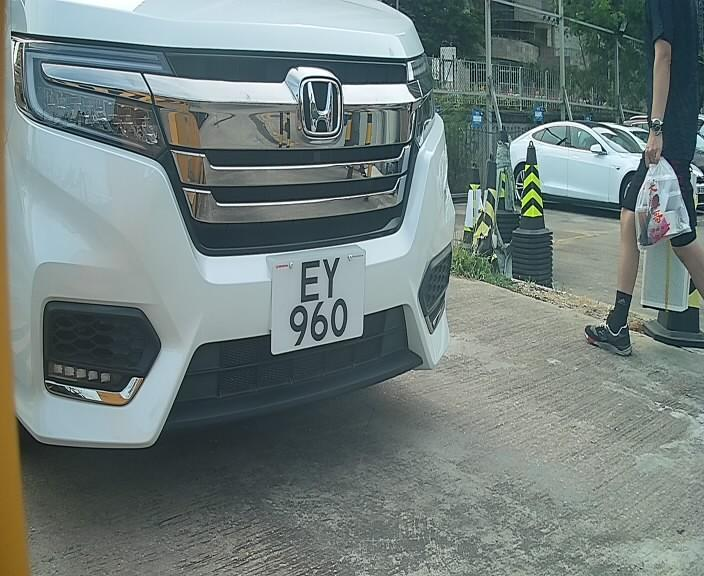License Plate: (265, 240, 375, 363)
